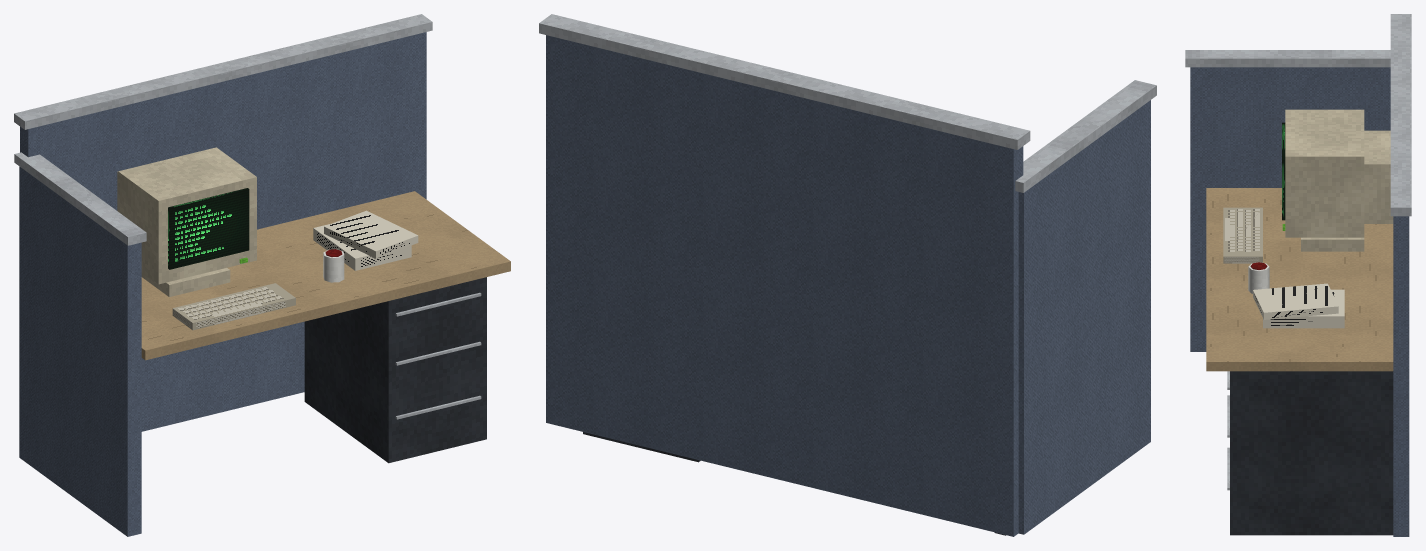
Rendered from tfg_cubicle_desk.glb.
The picture shows the model from 3 angles, left to right: view 1: azimuth 30°, elevation 25°; view 2: azimuth 150°, elevation 25°; view 3: azimuth 270°, elevation 25°; orthographic projection. The views are drawn at different scales.
Parts seen in each view (by area): view 1: tfg_cubicle_desk; view 2: tfg_cubicle_desk; view 3: tfg_cubicle_desk.
Part boxes in pixels (left/top/right/bottom): tfg_cubicle_desk: left=14, top=14, right=510, bottom=536; tfg_cubicle_desk: left=539, top=14, right=1156, bottom=536; tfg_cubicle_desk: left=1185, top=14, right=1411, bottom=536.
Bounding box in the file's own units: 1.75 × 1.43 × 0.86.
Materials: 11 (11 with a texture image).
